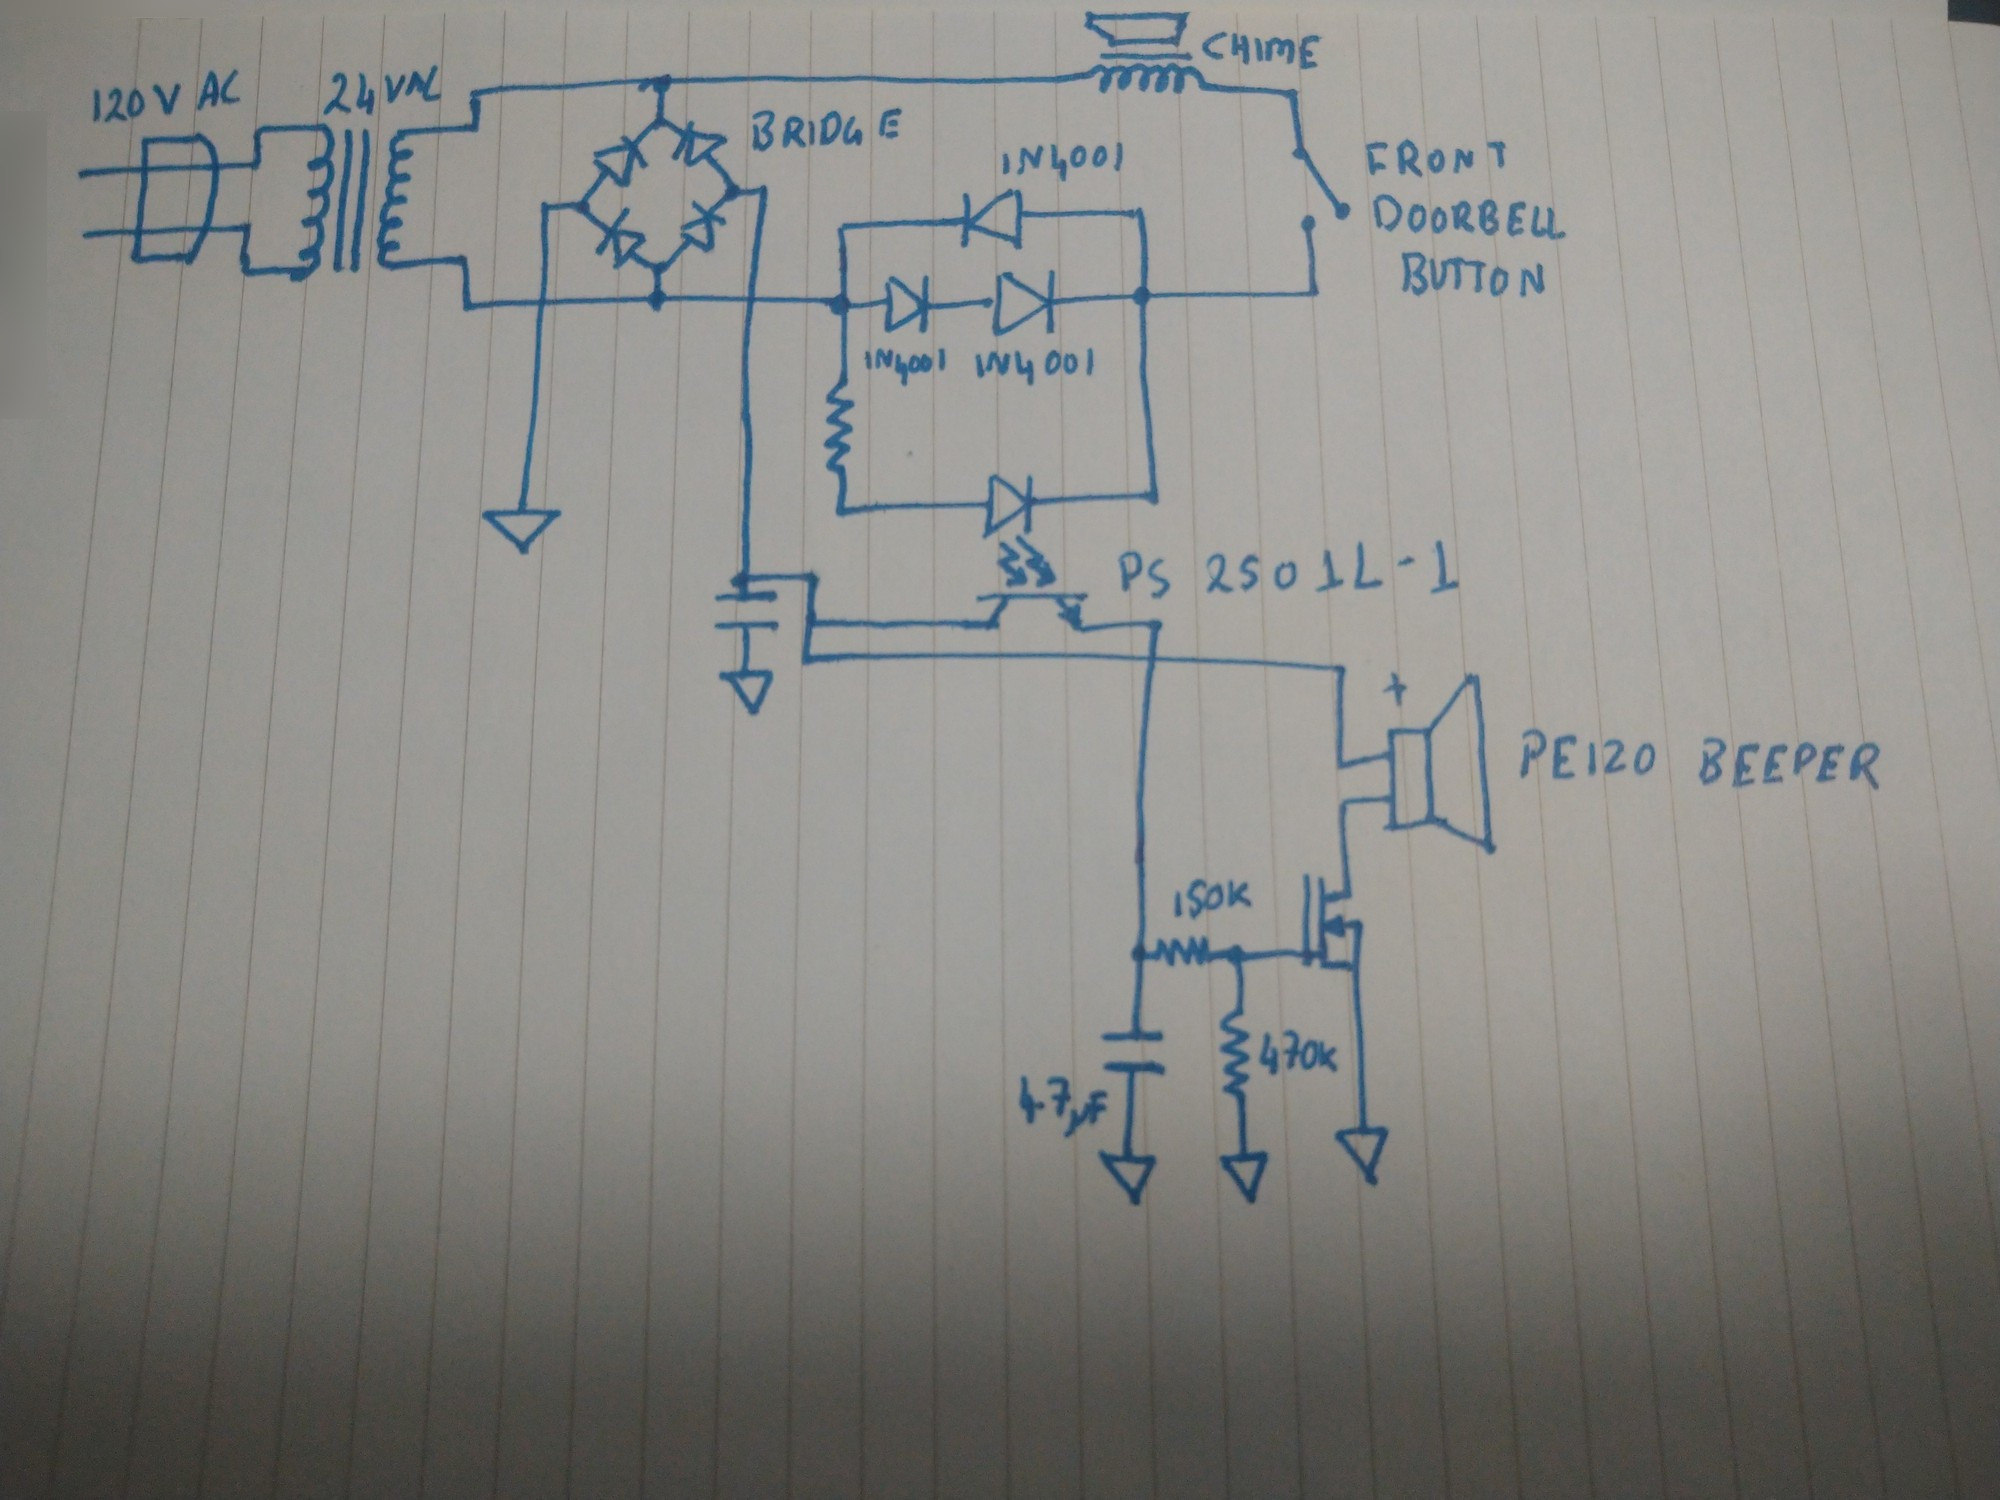capacitor.unpolarized: (1098, 1026, 1172, 1078), (709, 588, 784, 635)
crossover: (1139, 646, 1165, 671), (742, 287, 769, 312), (534, 295, 553, 312)
diode: (987, 266, 1061, 340), (954, 184, 1027, 252), (584, 205, 649, 280), (880, 273, 942, 337), (589, 132, 650, 191), (669, 118, 731, 169), (676, 199, 728, 255)
gnd: (479, 506, 567, 559), (1331, 1127, 1395, 1190), (1096, 1149, 1161, 1210), (717, 665, 776, 718), (1216, 1150, 1272, 1205)
junction: (1128, 280, 1157, 310), (1222, 942, 1254, 971), (827, 288, 854, 320), (644, 287, 671, 315), (649, 68, 674, 96), (728, 566, 756, 589), (572, 192, 594, 222), (1140, 485, 1165, 511), (647, 255, 672, 280), (1326, 659, 1353, 682), (720, 180, 743, 206), (828, 216, 852, 243), (235, 255, 258, 280), (1126, 942, 1150, 967), (244, 151, 268, 175), (751, 176, 773, 202), (1145, 614, 1169, 637), (461, 117, 485, 139), (465, 80, 487, 102), (800, 611, 820, 633), (795, 649, 817, 670), (800, 567, 820, 588), (247, 120, 268, 140), (828, 503, 847, 525), (535, 197, 554, 217), (1331, 755, 1350, 775), (649, 113, 669, 132), (1128, 205, 1150, 222), (455, 251, 472, 273), (460, 296, 477, 317), (236, 217, 254, 236), (1302, 285, 1321, 303), (1283, 87, 1301, 104), (1334, 796, 1353, 811)
optocoupler: (972, 470, 1091, 640)
resistor: (1216, 1005, 1257, 1105), (820, 377, 858, 474), (1151, 933, 1217, 969)
socket: (126, 131, 222, 266)
speaker: (1380, 668, 1501, 862), (1079, 6, 1209, 98)
switch: (1283, 145, 1354, 235)
terminal: (69, 224, 101, 246), (68, 161, 96, 183)
text: (1513, 725, 1907, 796), (1112, 536, 1490, 607), (1369, 191, 1572, 244), (87, 68, 243, 124), (748, 104, 918, 156), (1395, 249, 1550, 303), (320, 57, 447, 117), (1364, 136, 1510, 181), (1014, 1075, 1110, 1141), (998, 136, 1128, 184), (1202, 24, 1326, 72), (972, 347, 1099, 388), (1172, 873, 1261, 926), (1257, 1027, 1342, 1079), (863, 345, 951, 389)
transformer: (287, 121, 424, 287)
transistor: (1291, 867, 1365, 978)
